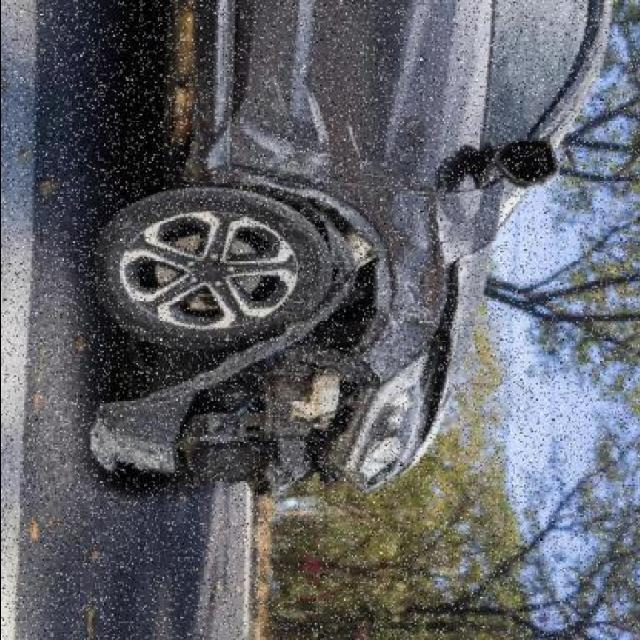doorouter-dent: (227, 0, 494, 178)
fender-dent: (323, 188, 479, 367)
front-bumper-dent: (123, 371, 336, 514)
